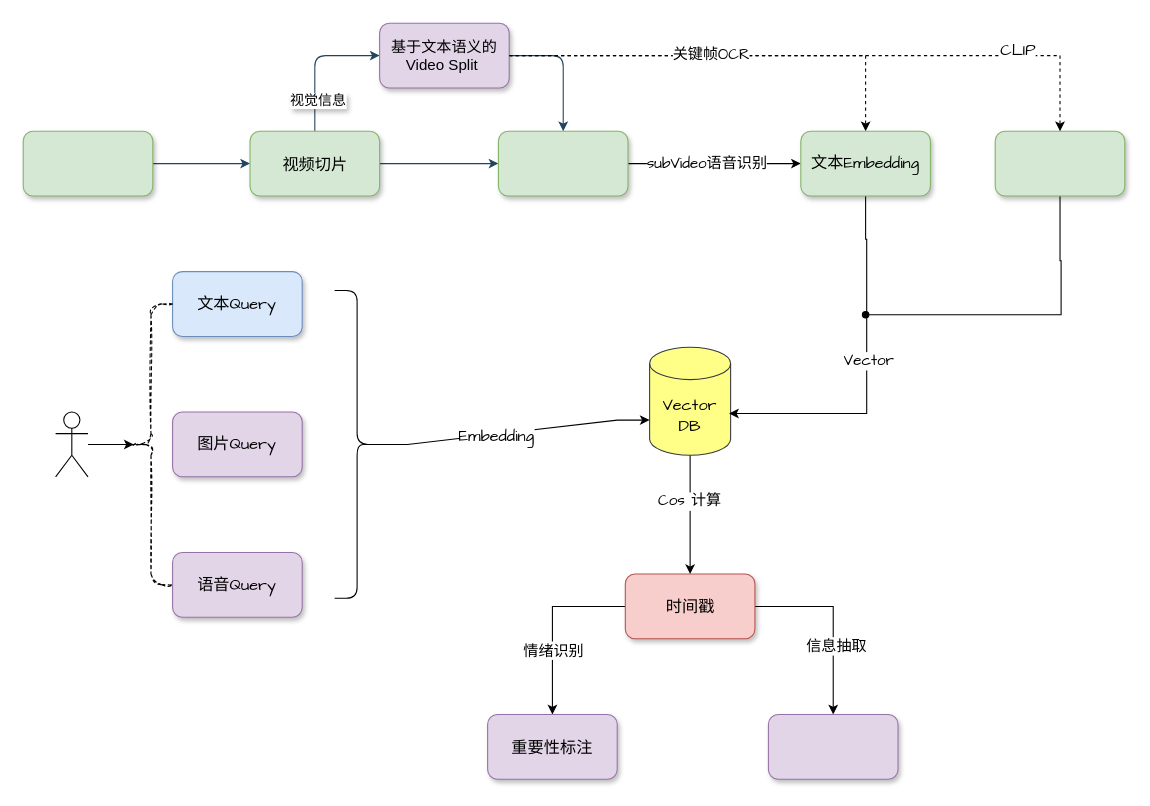
The diagram is 1150 pixels wide and 806 high, and some of its shapes have lost their labels. The centre of each missing label's shape, as x and y in pixels:
Actor: the point at 71,444
内容分割: the point at 563,165
图片Embedding: the point at 1060,165
视频: the point at 88,165
视频Caption: the point at 834,748
